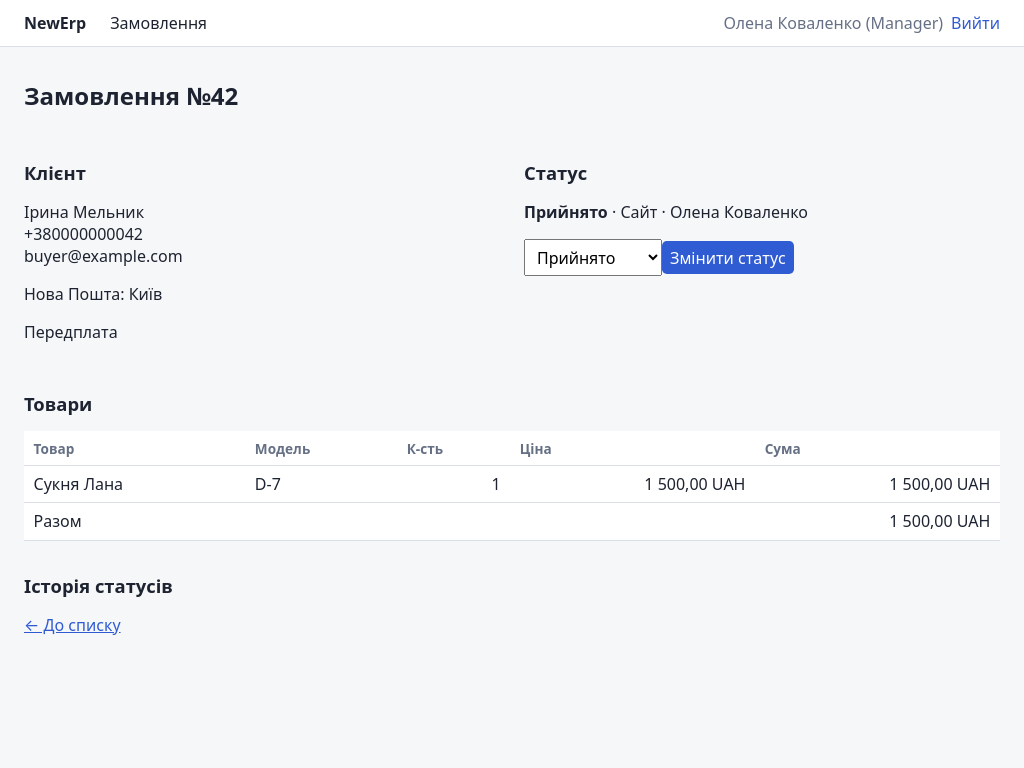
Test: orders › shows a refused status change as an error
Select "Відправлено" in the dropdown named "Новий статус" at (593, 258), box [524,239,662,276]
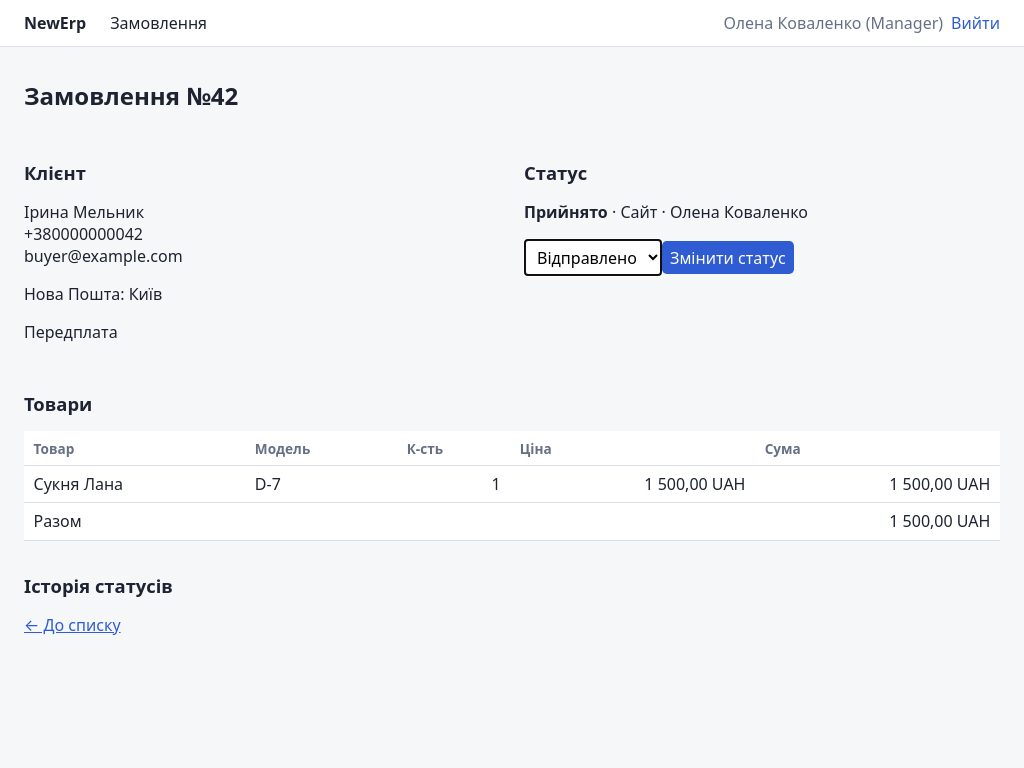
Click the button "Змінити статус".
click(728, 258)  # box [662,241,794,274]
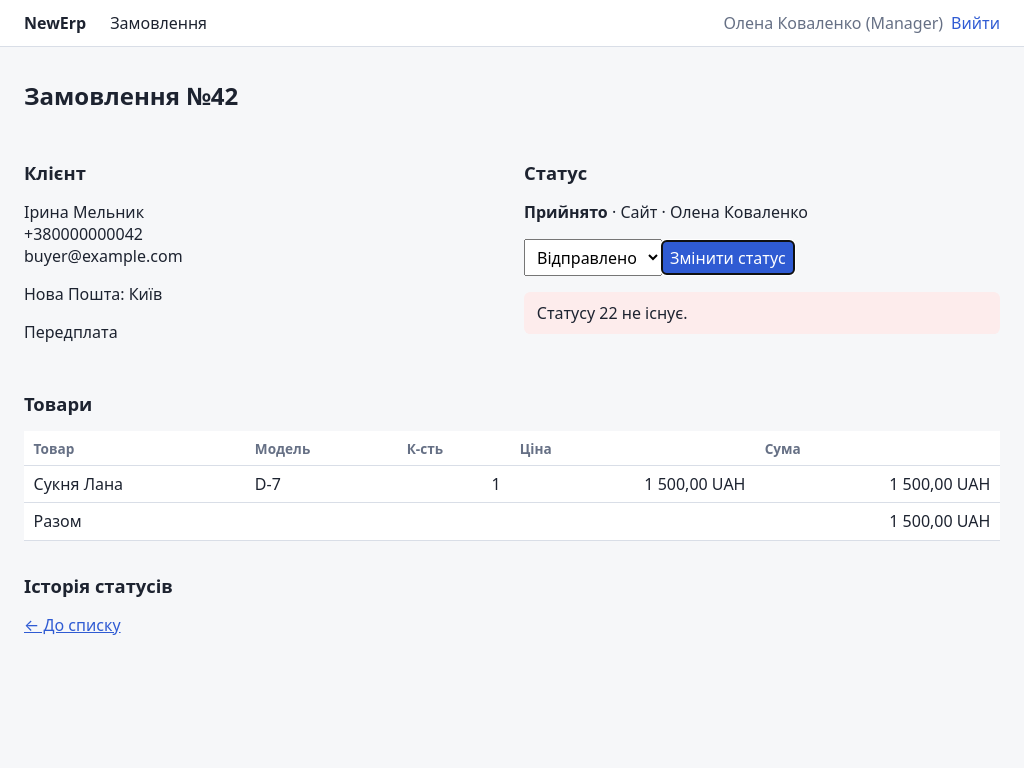
Check: the message reads "Статусу 22 не існує.", box [537,302,688,324]
